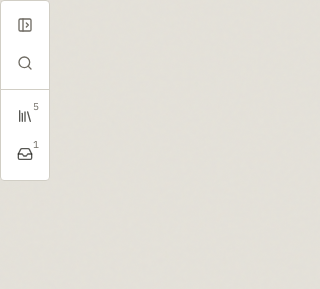
Scenario: ProjectArchivePanel › restores and updates a persisted collapsed preference
The image size is (320, 289).
What coordinates should you click on to do the following:
click the button named "Expand project archive"
I would click on:
 (25, 25)
Its box is [9,9,41,41].
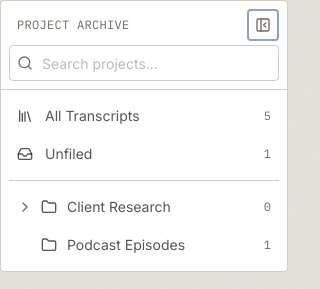
Now the button named "Collapse project archive" is expanded, box [247,9,279,41]
Now the field named "Search project archive" is shown, box [9,45,279,81]
